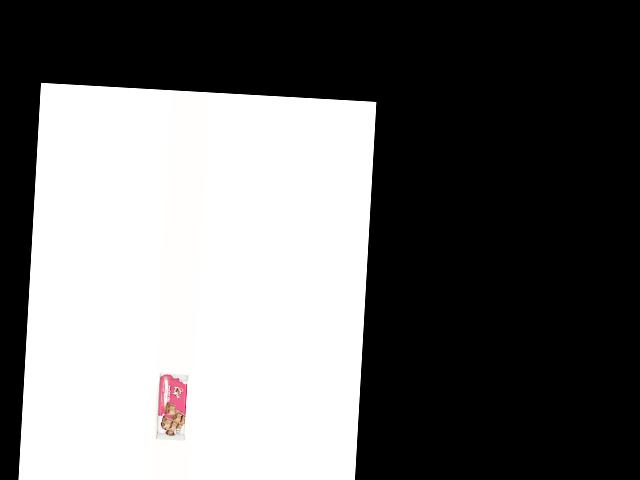chocolate: (150, 371, 190, 442)
